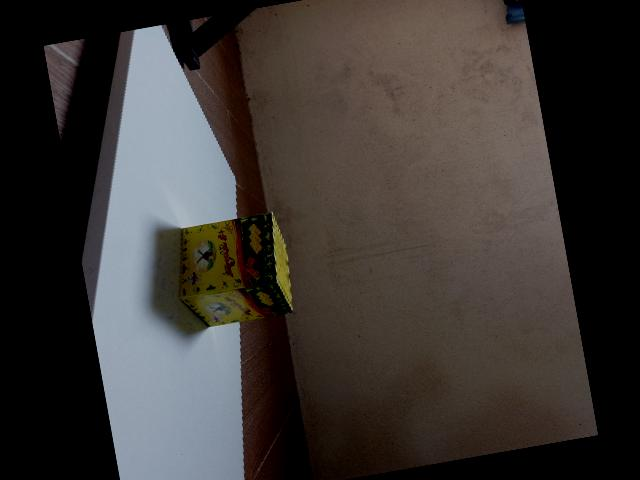luong_kho: (175, 212, 291, 327)
